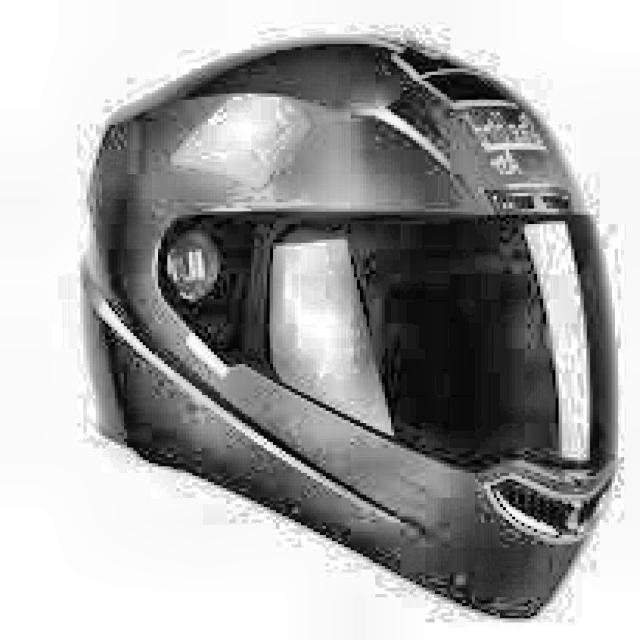Helmet: (78, 20, 623, 640)
